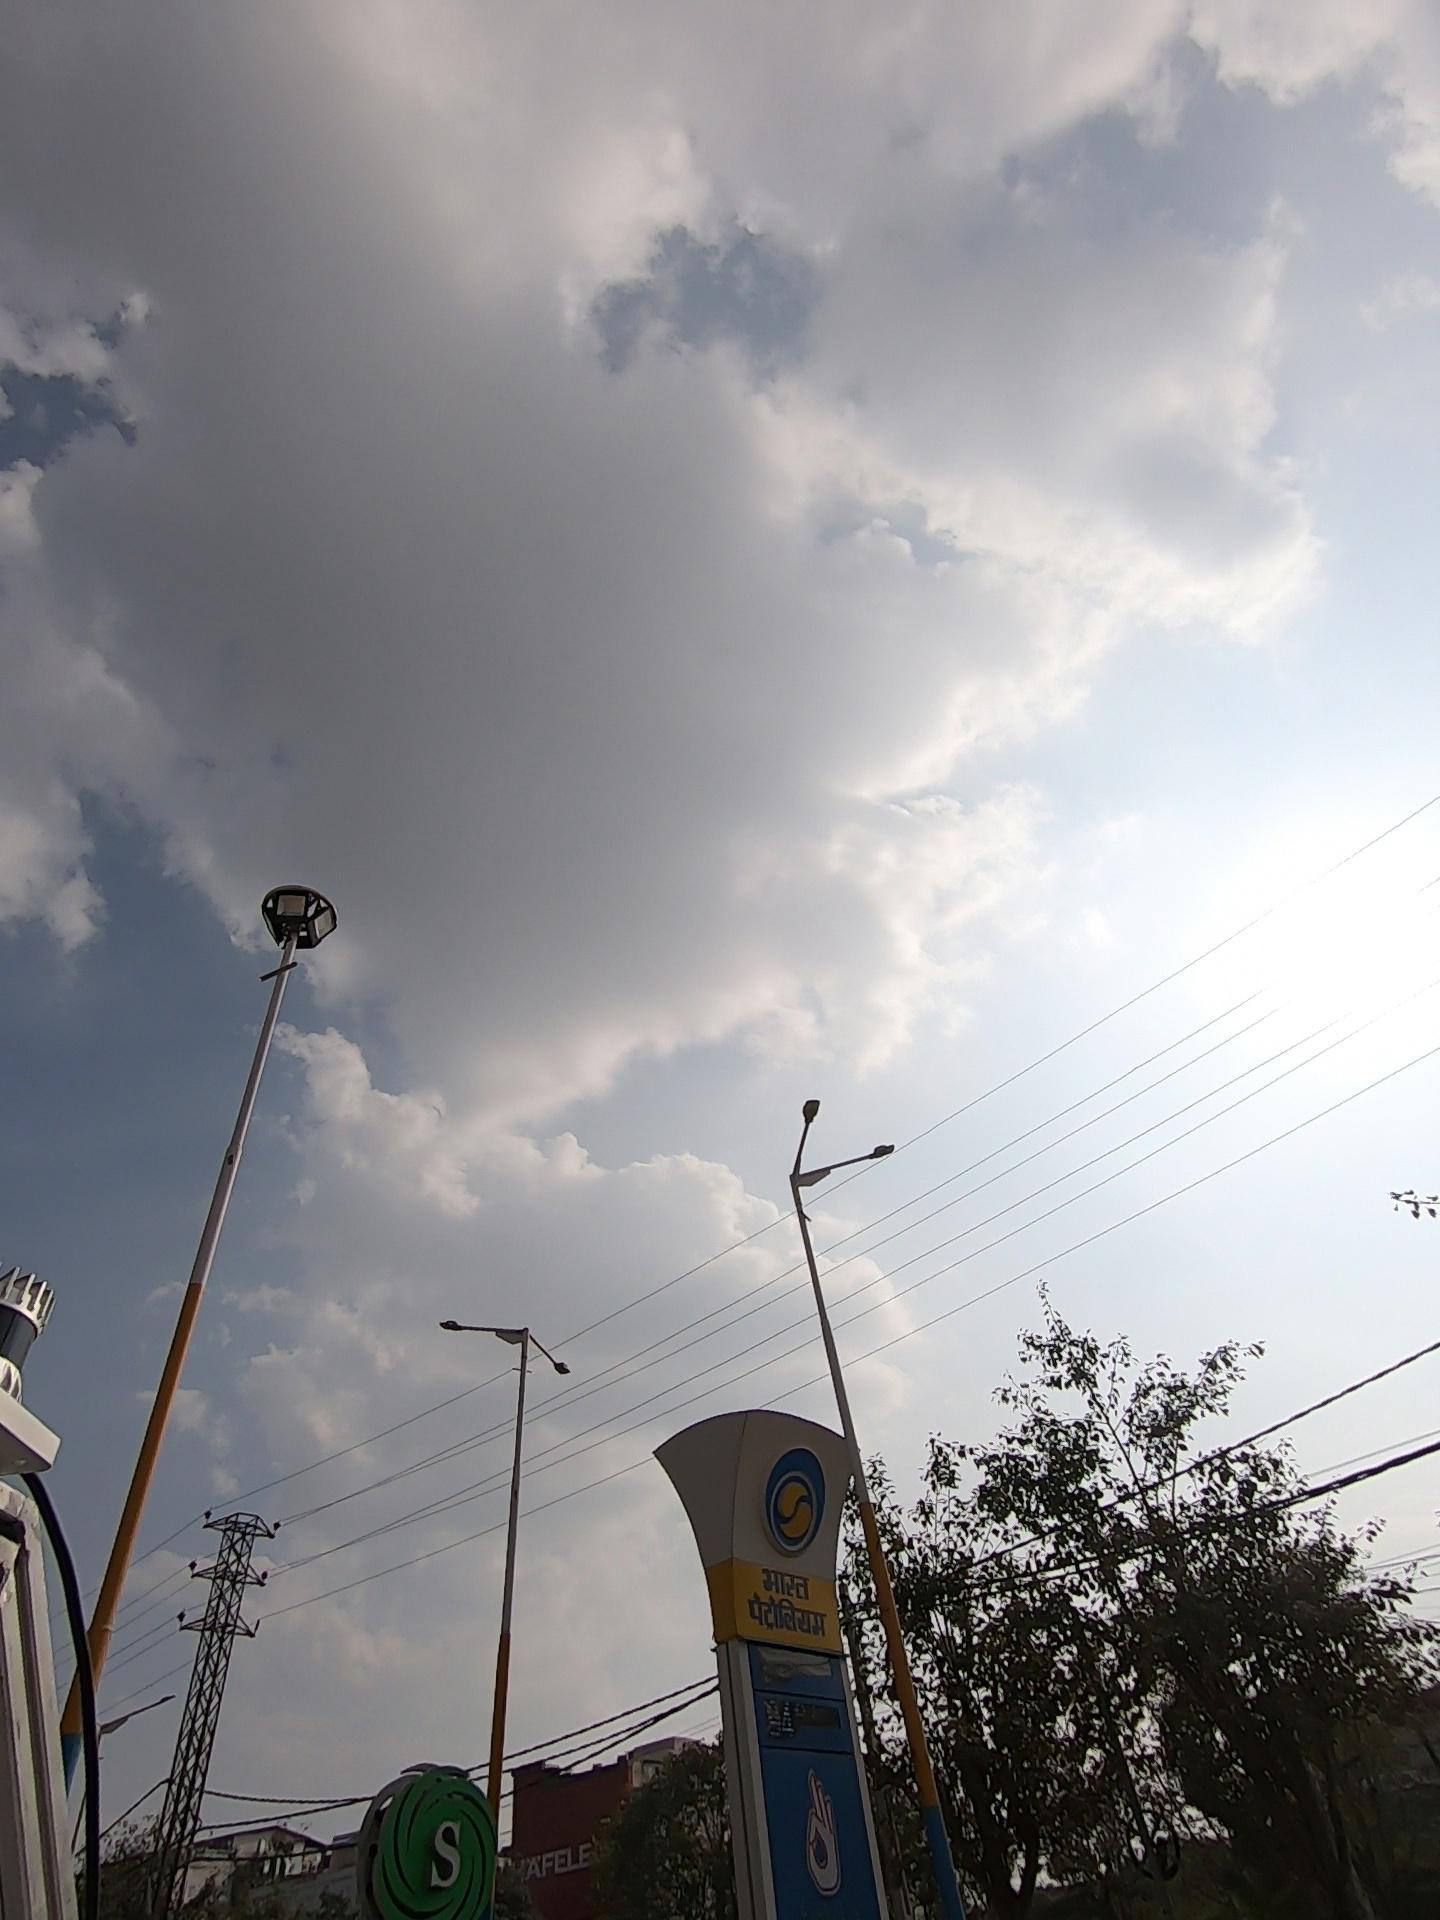off: (740, 1051, 939, 1279), (241, 897, 440, 1063), (440, 1291, 635, 1400)
